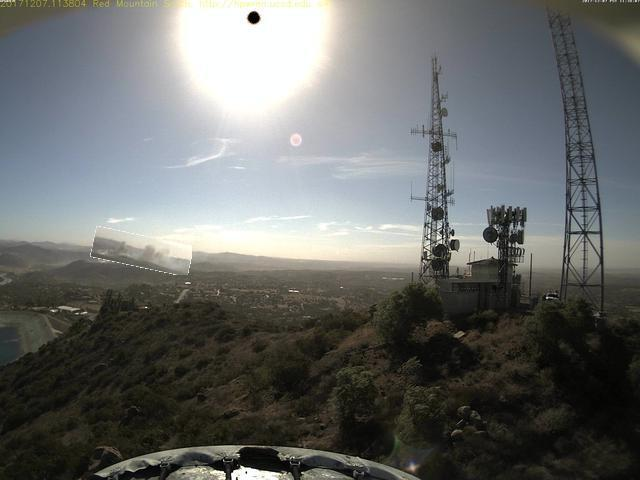smoke: (92, 232, 193, 273)
